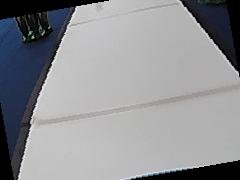corn: (13, 3, 53, 40)
